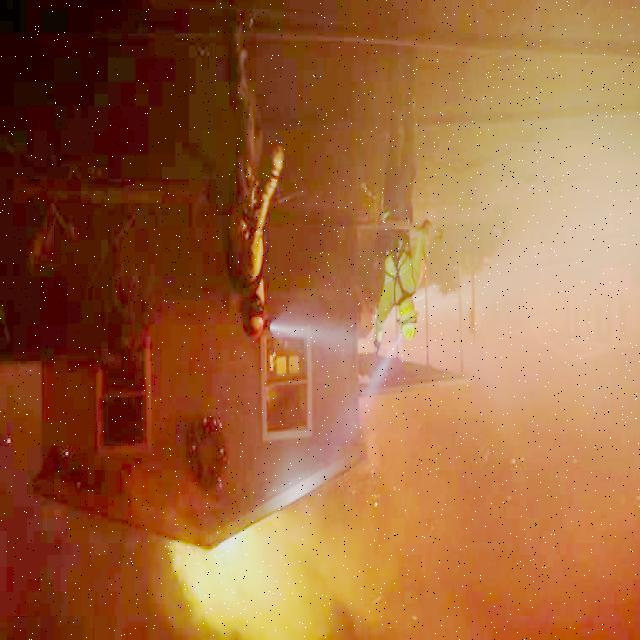api: (170, 517, 306, 640)
